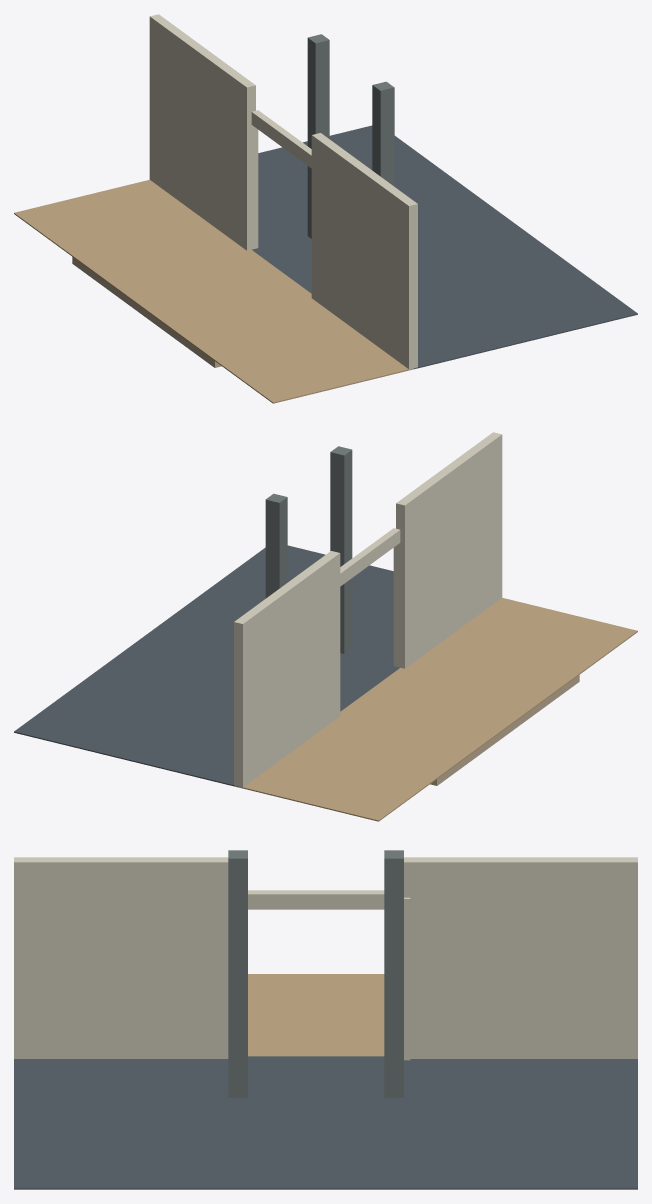
The picture shows the model from 3 angles, top to bottom: view 1: azimuth 30°, elevation 25°; view 2: azimuth 150°, elevation 25°; view 3: azimuth 270°, elevation 25°; orthographic projection. The views are drawn at different scales.
Visible parts, largest first — view 1: APT_1, COURT_2, PORTW2_4, PORTW1_3, PILLAR_8, PILLAR_9, GATE-lintel_7, GROUND_0; view 2: APT_1, COURT_2, PORTW1_3, PORTW2_4, PILLAR_9, PILLAR_8, GATE-lintel_7, GROUND_0, GATE-j2_6; view 3: COURT_2, PORTW1_3, PORTW2_4, APT_1, PILLAR_8, PILLAR_9, GATE-lintel_7, GATE-j1_5.
Boxes of the visible parts, x1,y1,x2,y2 form: APT_1: [14, 179, 413, 403]; COURT_2: [252, 125, 637, 368]; PORTW2_4: [311, 133, 417, 370]; PORTW1_3: [149, 14, 255, 250]; PILLAR_8: [307, 34, 329, 238]; PILLAR_9: [372, 81, 394, 186]; GATE-lintel_7: [251, 110, 311, 168]; GROUND_0: [72, 257, 221, 367]; APT_1: [238, 597, 637, 821]; COURT_2: [14, 545, 399, 787]; PORTW1_3: [234, 551, 340, 787]; PORTW2_4: [396, 432, 502, 668]; PILLAR_9: [330, 446, 352, 653]; PILLAR_8: [265, 493, 287, 598]; GATE-lintel_7: [340, 528, 400, 586]; GROUND_0: [430, 675, 579, 785]; GATE-j2_6: [393, 543, 400, 667]; COURT_2: [14, 1056, 637, 1189]; PORTW1_3: [404, 857, 637, 1058]; PORTW2_4: [14, 857, 228, 1058]; APT_1: [248, 974, 384, 1056]; PILLAR_8: [384, 850, 403, 1097]; PILLAR_9: [228, 850, 247, 1097]; GATE-lintel_7: [248, 890, 384, 909]; GATE-j1_5: [404, 897, 410, 1060].
Bounding box in the file's own units: 6.5 × 3.52 × 8.
